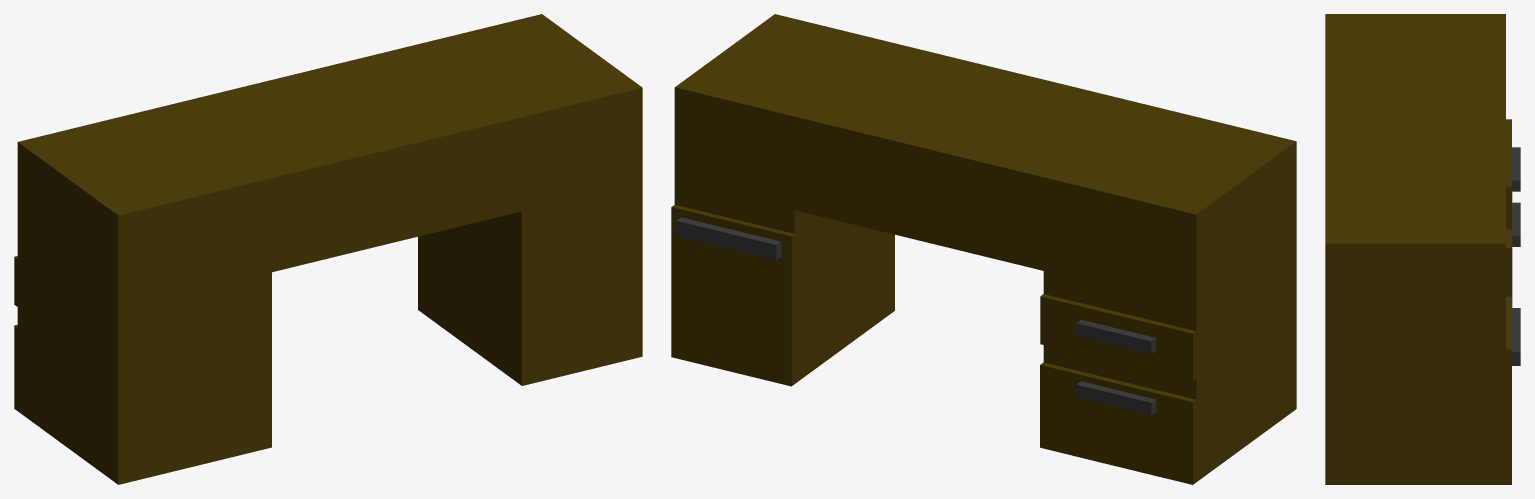
The model's file is OfficeDeskDennis.fbx.
3 views of the same model, side by side, from view 1: azimuth 30°, elevation 25°; view 2: azimuth 150°, elevation 25°; view 3: azimuth 270°, elevation 25° (orthographic). The views are drawn at different scales.
Parts seen in each view (by area): view 1: StorageOfficeDesk; view 2: StorageOfficeDesk, Handles, Handles3, Handles4; view 3: StorageOfficeDesk, Handles, Handles3, Handles4.
Boxes of the visible parts, x1,y1,x2,y2 form: StorageOfficeDesk: [14, 14, 642, 484]; StorageOfficeDesk: [671, 14, 1296, 484]; Handles: [676, 217, 781, 260]; Handles3: [1076, 319, 1156, 353]; Handles4: [1076, 381, 1156, 415]; StorageOfficeDesk: [1325, 14, 1512, 484]; Handles: [1512, 308, 1520, 365]; Handles3: [1512, 147, 1520, 191]; Handles4: [1512, 202, 1520, 246].
Size of the model in its own units: 54.16 by 26.58 by 19.5.
